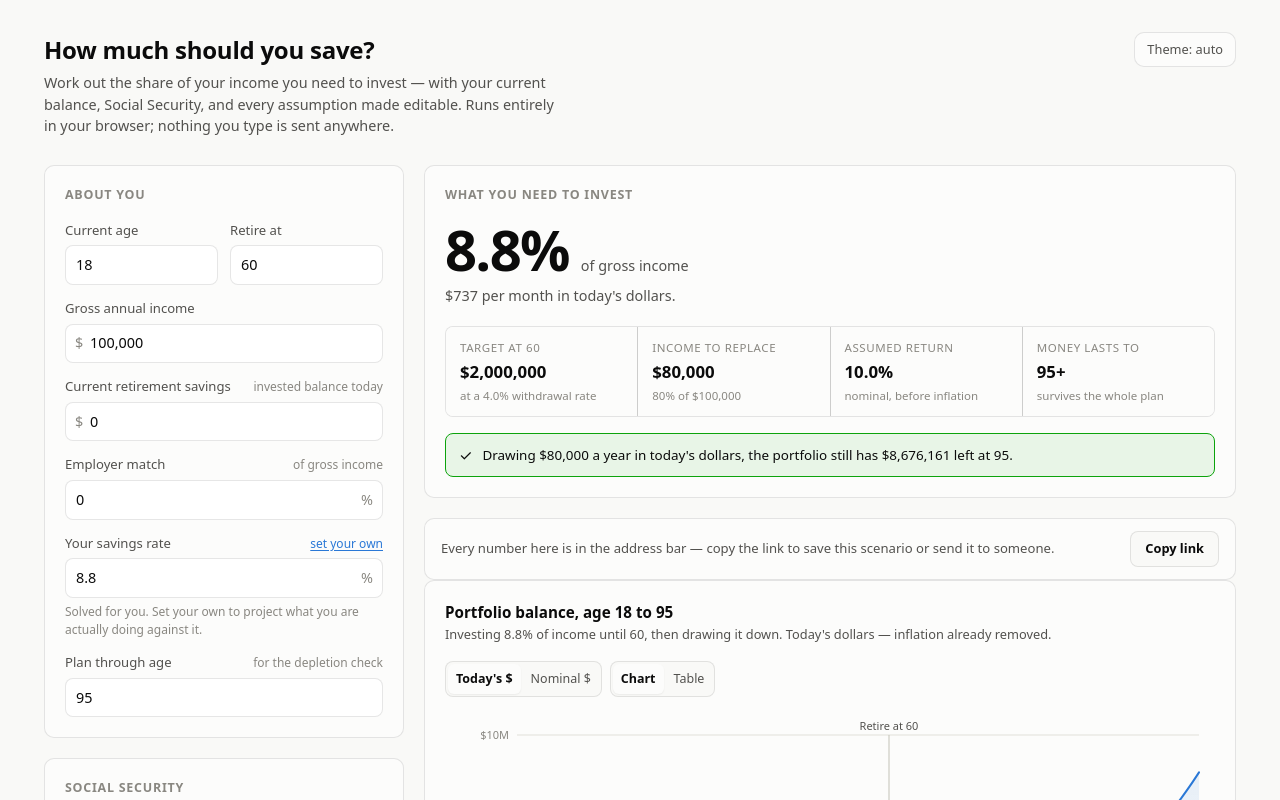
typing into numeric fields › re-syncs to the clamped value on blur
The width and height of the screenshot is (1280, 800).
Step 1. Replace the text in the number field labelled "Current age" with "9" → (142, 265), box x1=65 y1=245 x2=218 y2=285
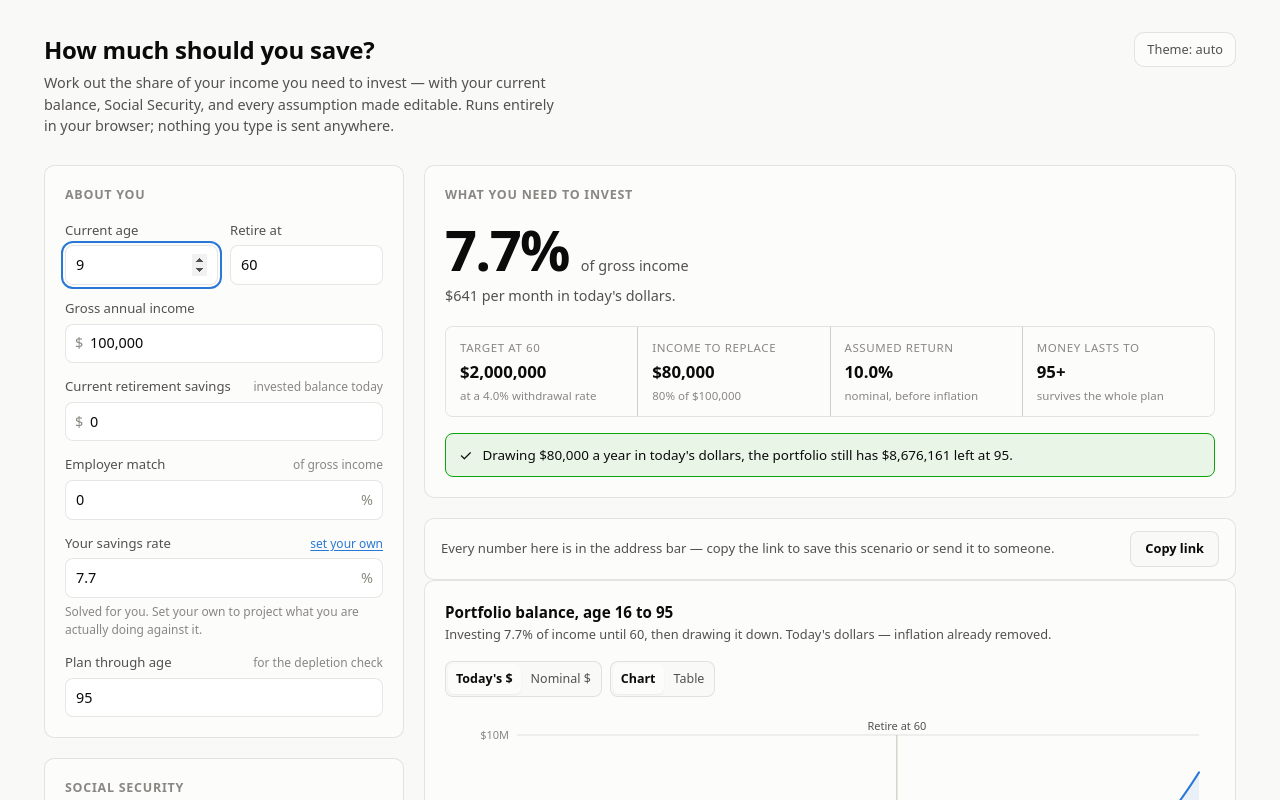
Step 2. Press Tab
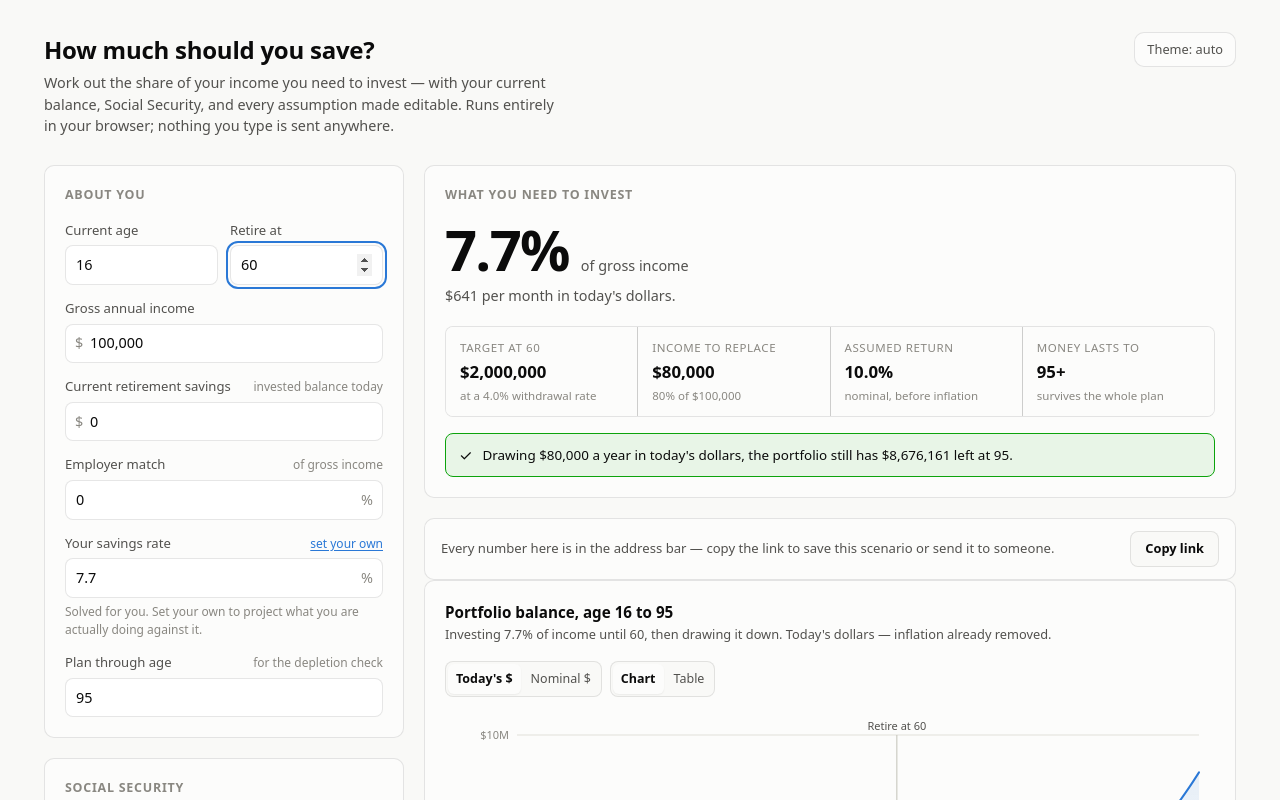
Result: the number field labelled "Current age" holds "16" at x1=65 y1=245 x2=218 y2=285
